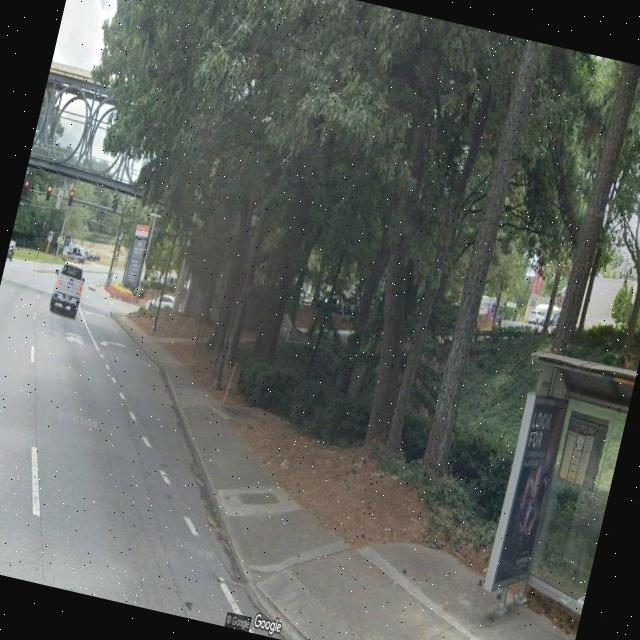shelter: (460, 344, 637, 640)
